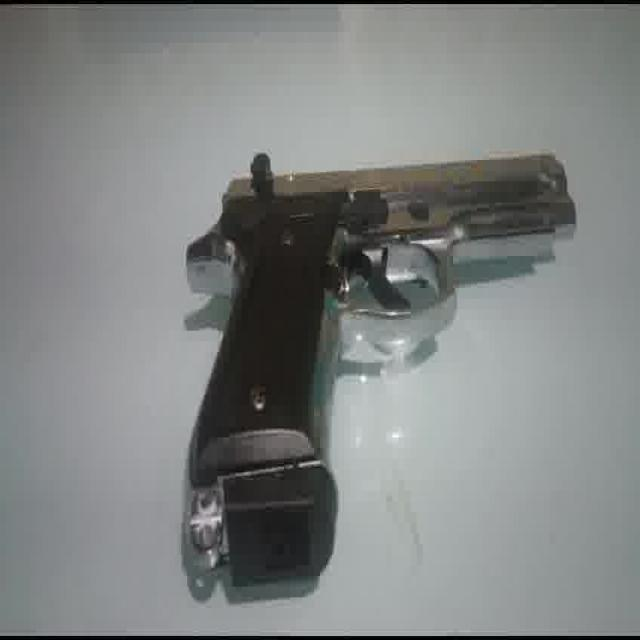weapon: (181, 148, 577, 580)
